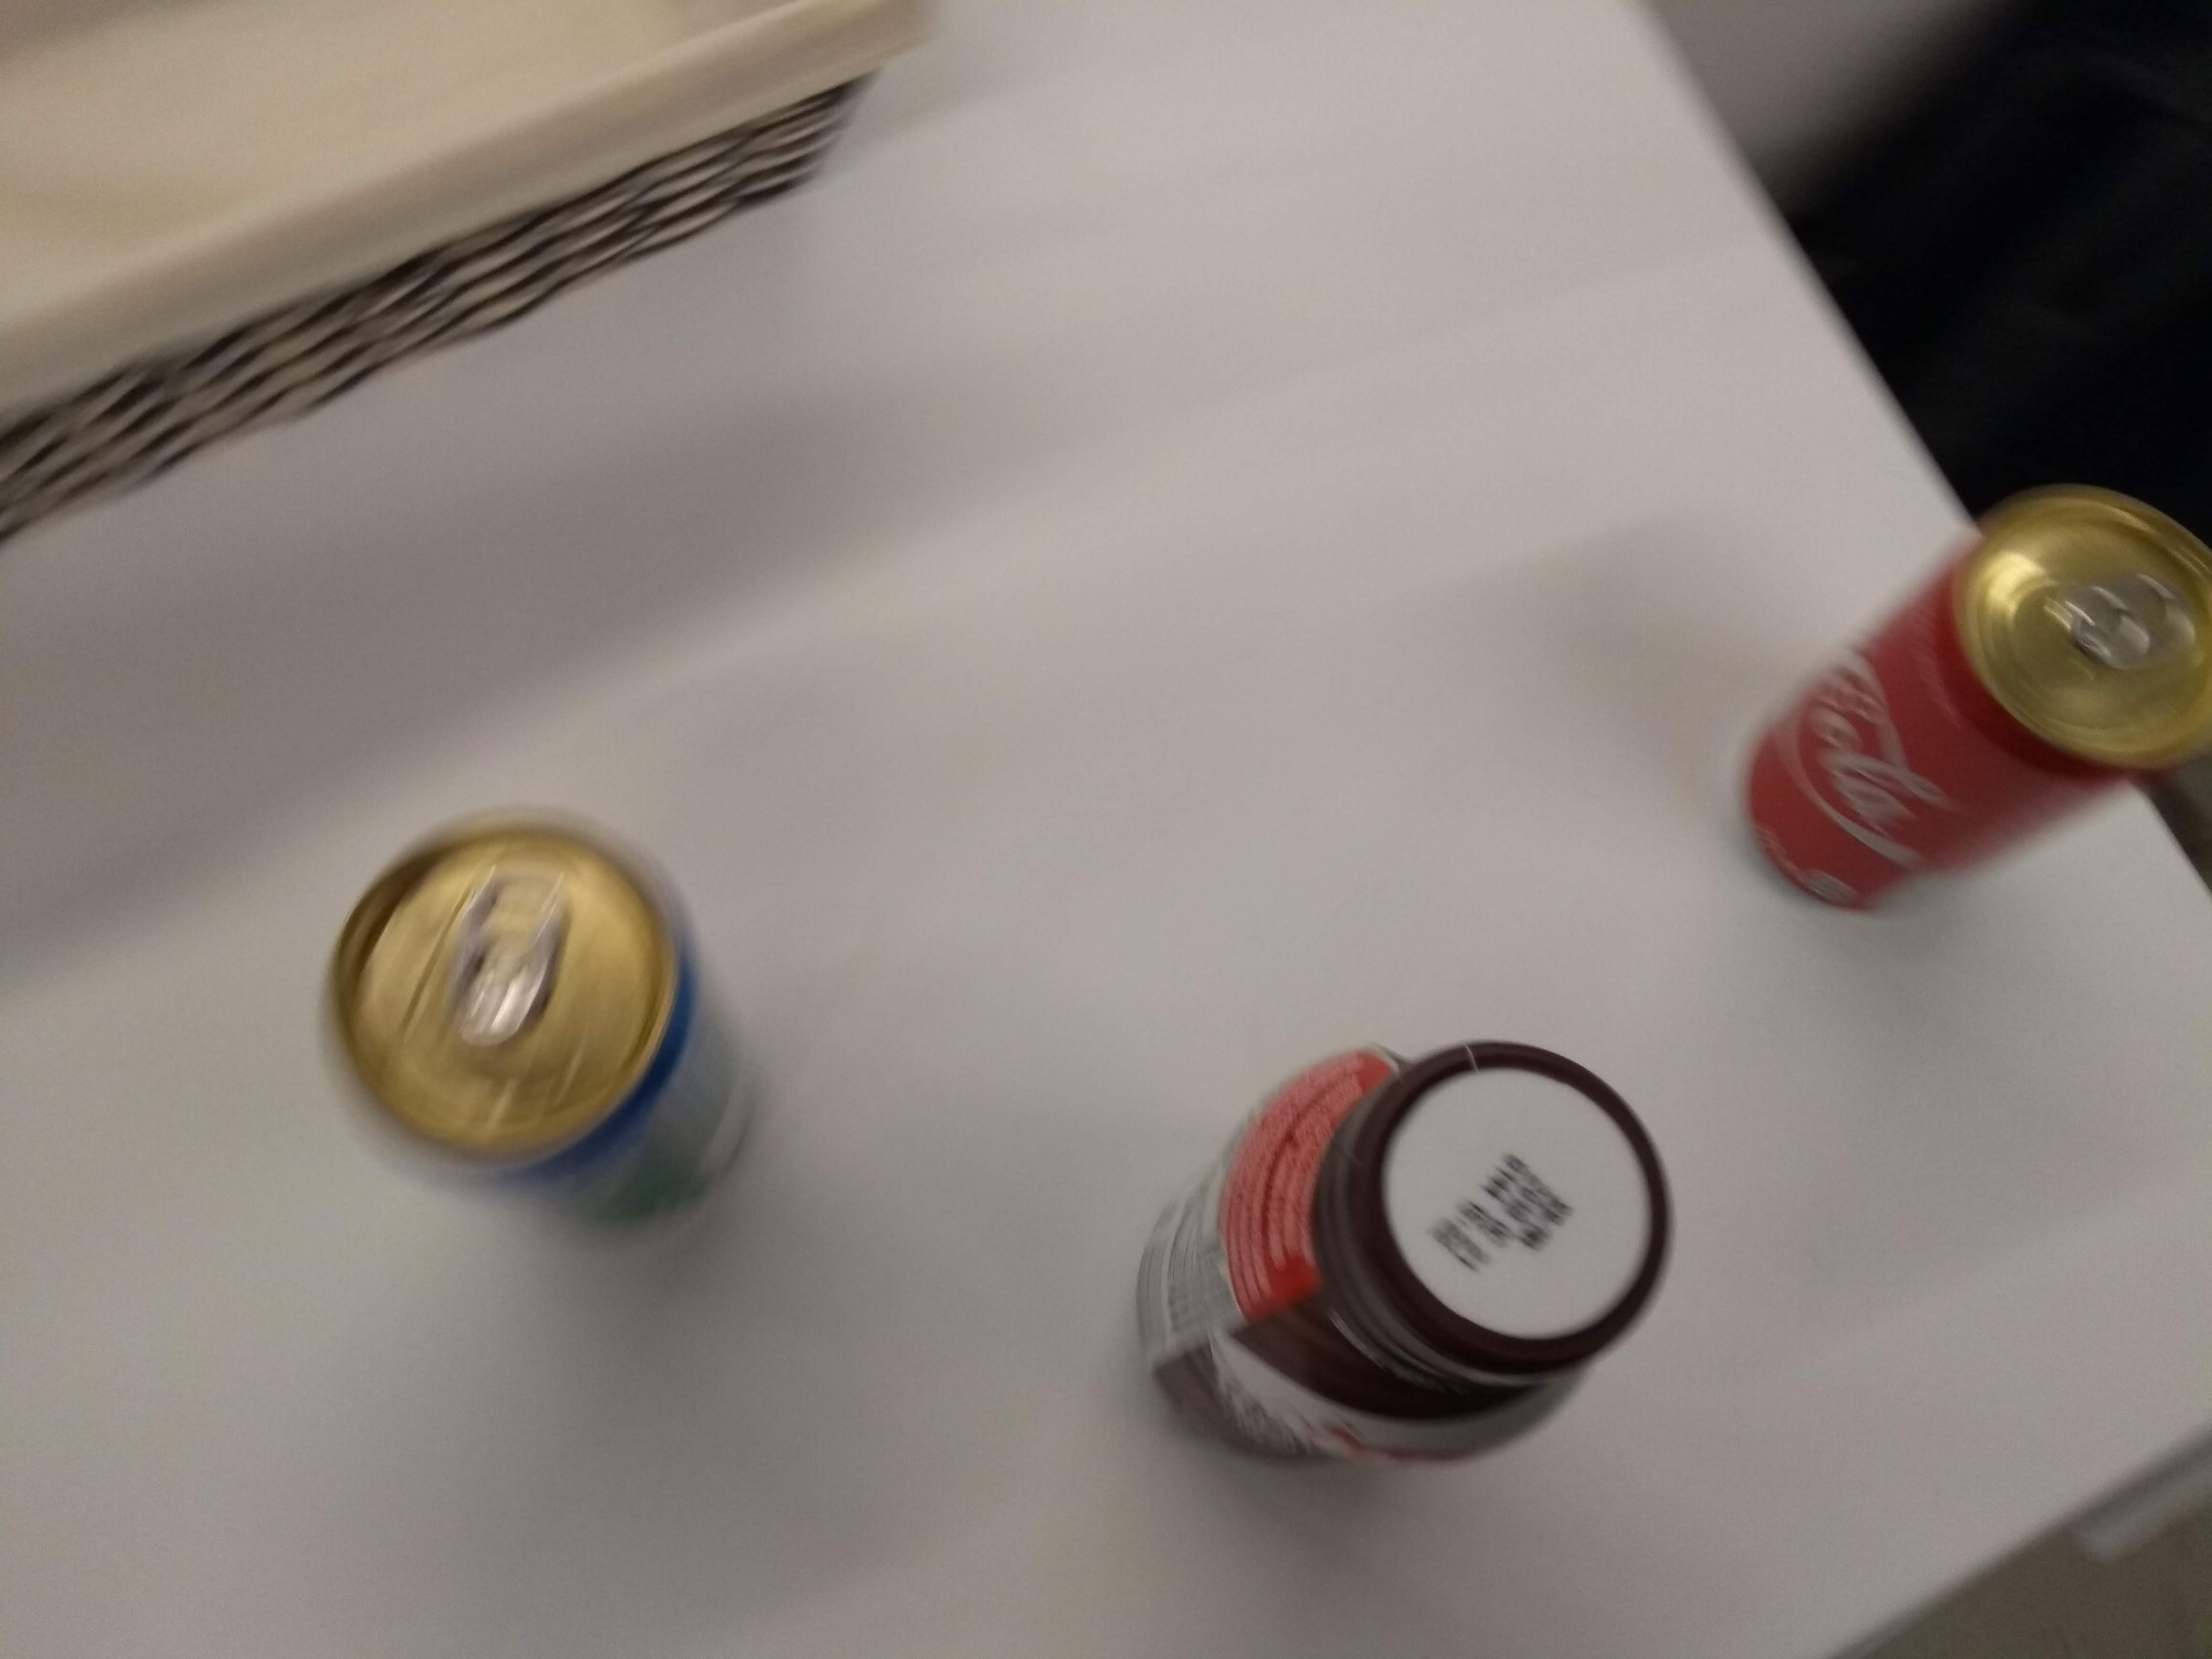chocolate_drink: (1118, 1021, 1695, 1499)
coke: (1724, 465, 2212, 927)
sprite: (293, 796, 780, 1255)
